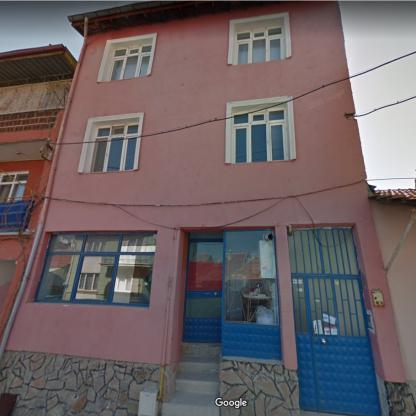door: (292, 274, 381, 415), (183, 240, 223, 343)
window: (35, 233, 156, 306), (221, 230, 281, 360), (289, 228, 358, 274), (233, 107, 288, 162), (89, 122, 138, 172), (235, 25, 284, 64), (108, 44, 151, 80), (0, 172, 28, 200), (189, 232, 222, 240)
